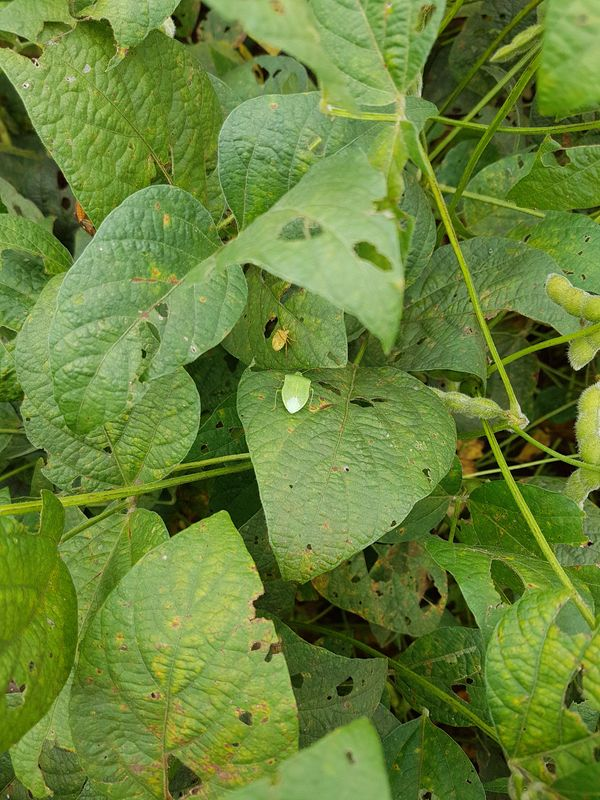Euschistus_heros_adulto: (74, 220, 99, 243), (67, 199, 90, 221)
Euschistus_heros_ninfa: (265, 322, 302, 361)
Nezara_viridula_adulto: (270, 364, 321, 419)
